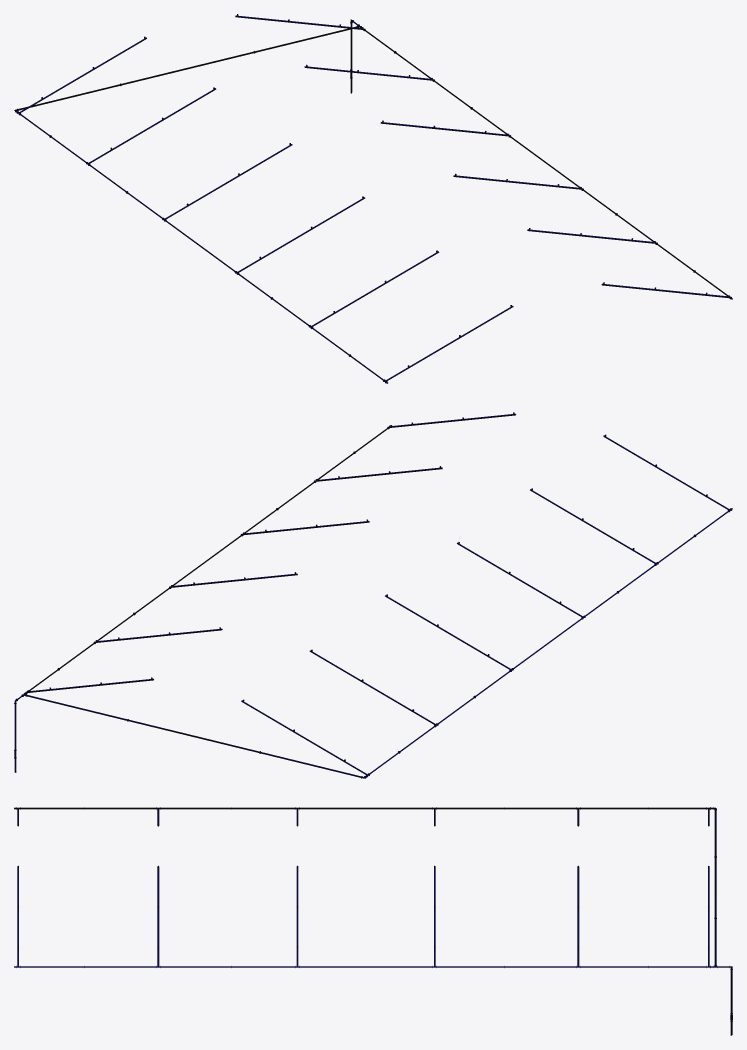
Rendered from Hanger_WaterSystem.fbx.
3 views of the same model, one above another, from view 1: azimuth 30°, elevation 25°; view 2: azimuth 150°, elevation 25°; view 3: azimuth 270°, elevation 25° (orthographic). The views are drawn at different scales.
Visible parts, largest first — view 1: Hanger_WaterSystem; view 2: Hanger_WaterSystem; view 3: Hanger_WaterSystem.
Boxes of the visible parts, x1,y1,x2,y2 form: Hanger_WaterSystem: [14, 14, 732, 383]; Hanger_WaterSystem: [14, 412, 732, 778]; Hanger_WaterSystem: [14, 807, 732, 1035].
Size of the model in its own units: 3533 by 1156 by 6726.
